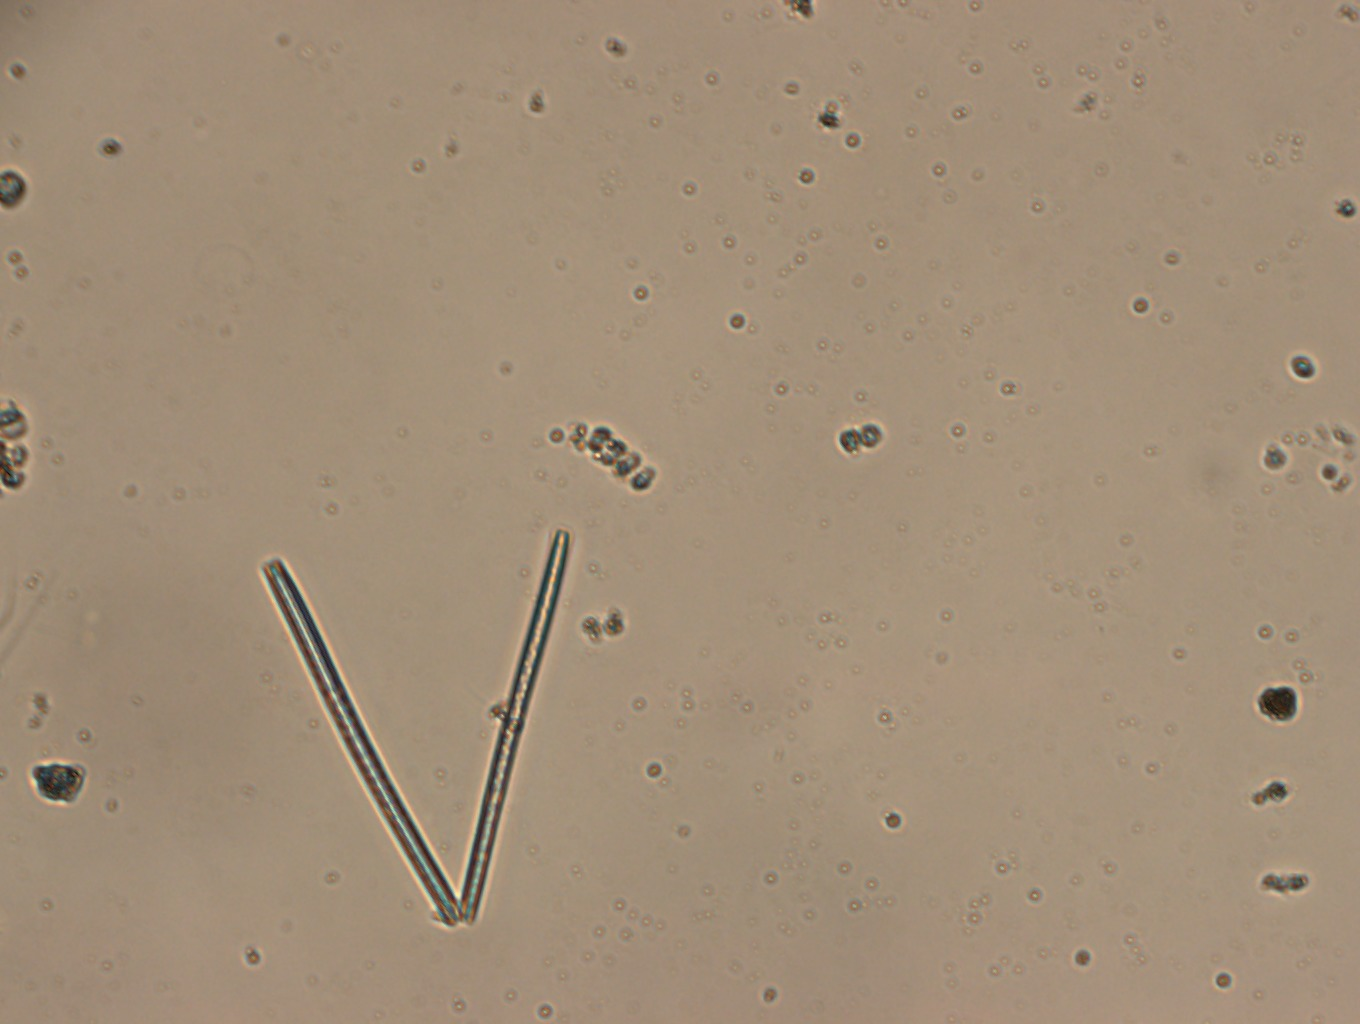thalassionema frauenfeldii: (249, 520, 578, 934)
